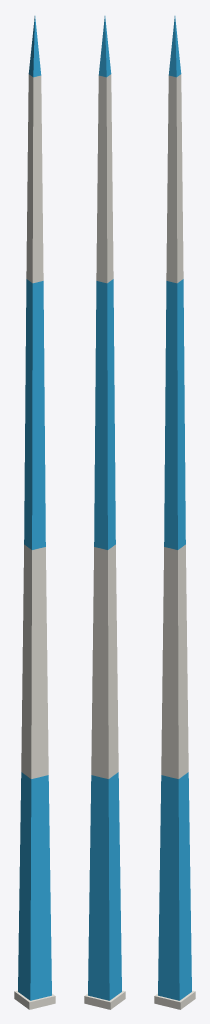
File: pylon.glb
3 renders of one model, left to right at view 1: azimuth 30°, elevation 25°; view 2: azimuth 150°, elevation 25°; view 3: azimuth 330°, elevation 25°, orthographic.
Parts seen in each view (by area): view 1: wall_blue, trim; view 2: wall_blue, trim; view 3: wall_blue, trim.
Boxes of the visible parts, bbox=[...] form: wall_blue: bbox=[18, 16, 51, 1000]; trim: bbox=[14, 74, 55, 1009]; wall_blue: bbox=[88, 16, 121, 1000]; trim: bbox=[84, 74, 125, 1009]; wall_blue: bbox=[158, 16, 191, 1000]; trim: bbox=[154, 74, 195, 1009].
Bounding box in the file's own units: 3.6 × 130 × 3.6.
